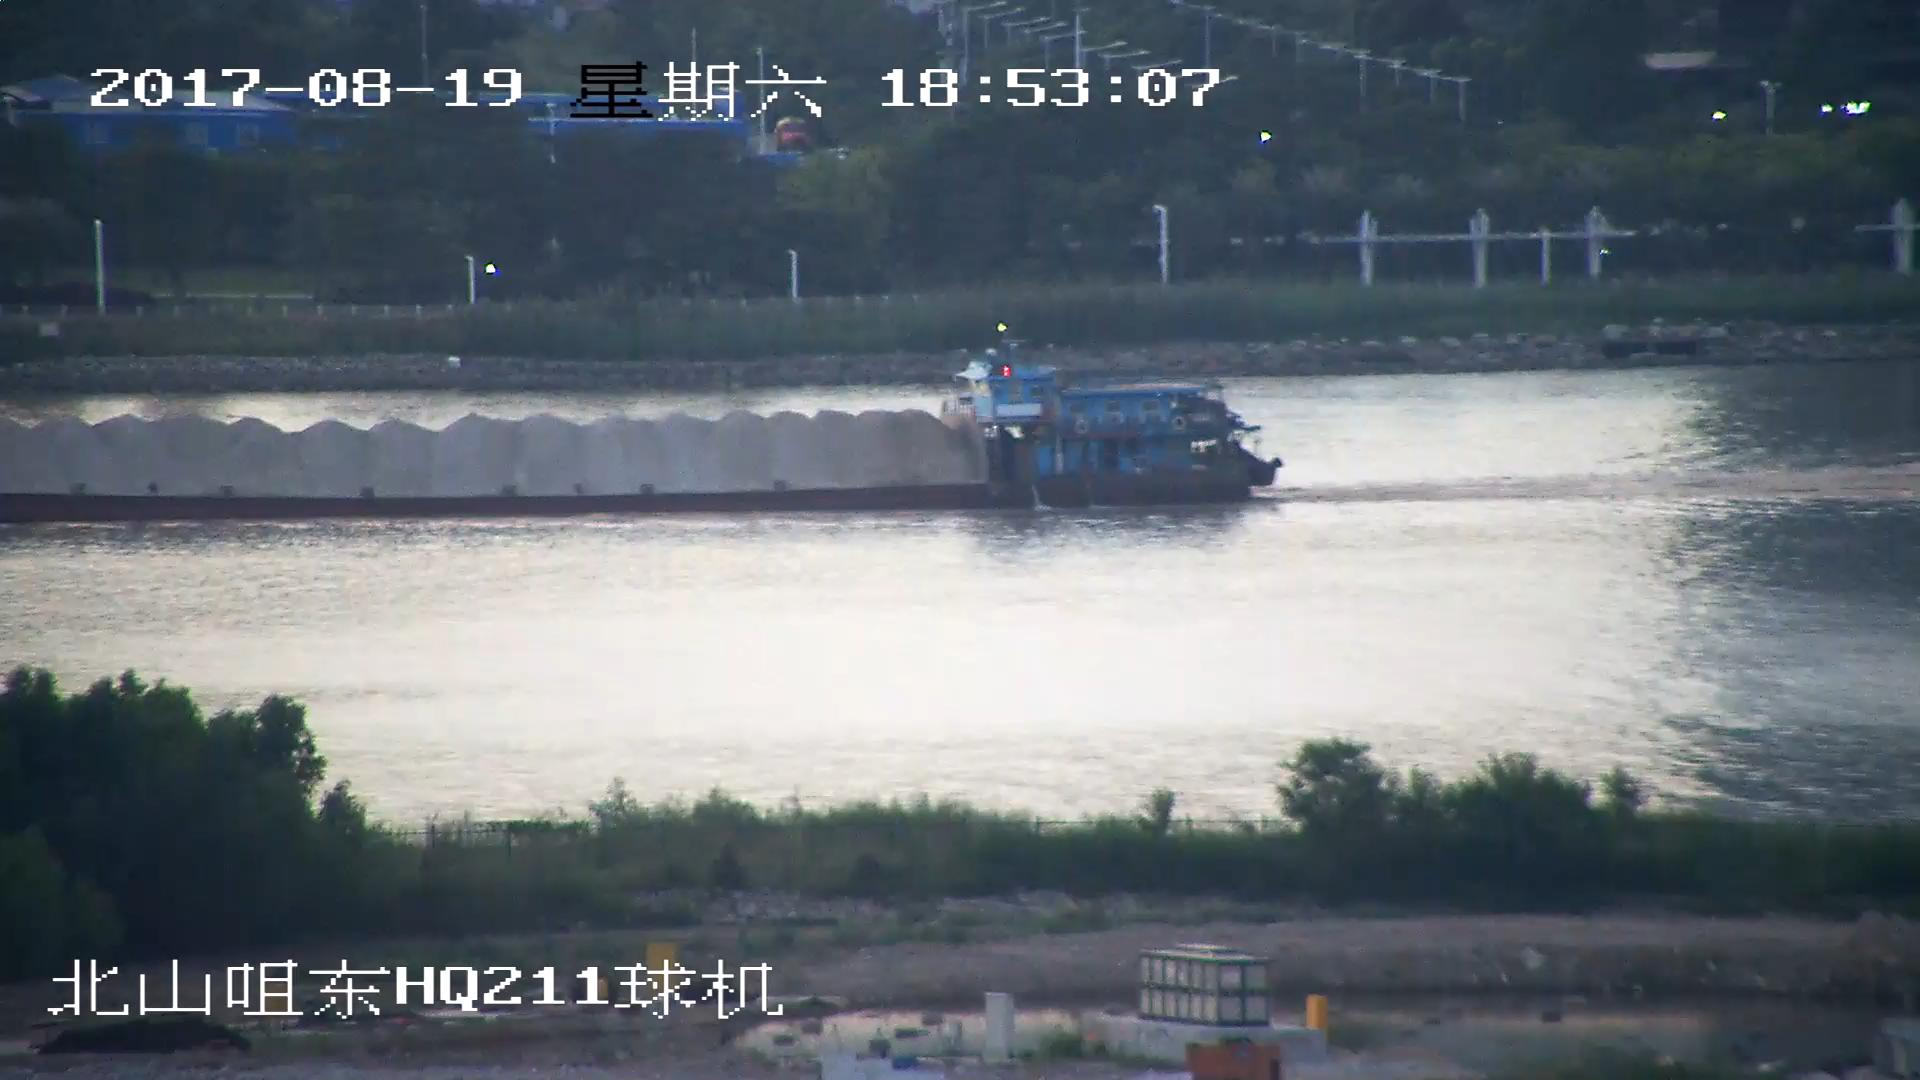ore carrier: (1, 336, 1282, 524)
